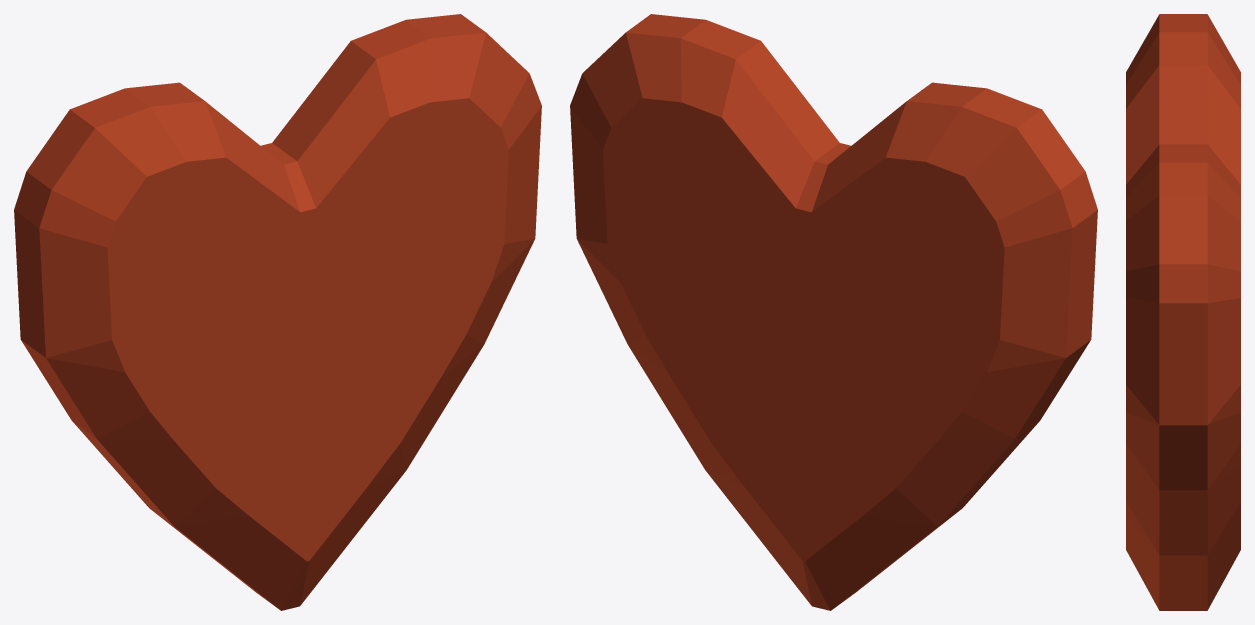
The model's file is health.glb.
The picture shows the model from 3 angles, left to right: view 1: azimuth 30°, elevation 25°; view 2: azimuth 150°, elevation 25°; view 3: azimuth 270°, elevation 25°; orthographic projection. The views are drawn at different scales.
Parts seen in each view (by area): view 1: Health; view 2: Health; view 3: Health.
Boxes of the visible parts, bbox=[...] form: Health: bbox=[14, 14, 541, 610]; Health: bbox=[570, 14, 1097, 610]; Health: bbox=[1126, 14, 1240, 610].
Bounding box in the file's own units: 0.2228 × 0.227 × 0.0464.
Materials: 1 (1 with a texture image).
